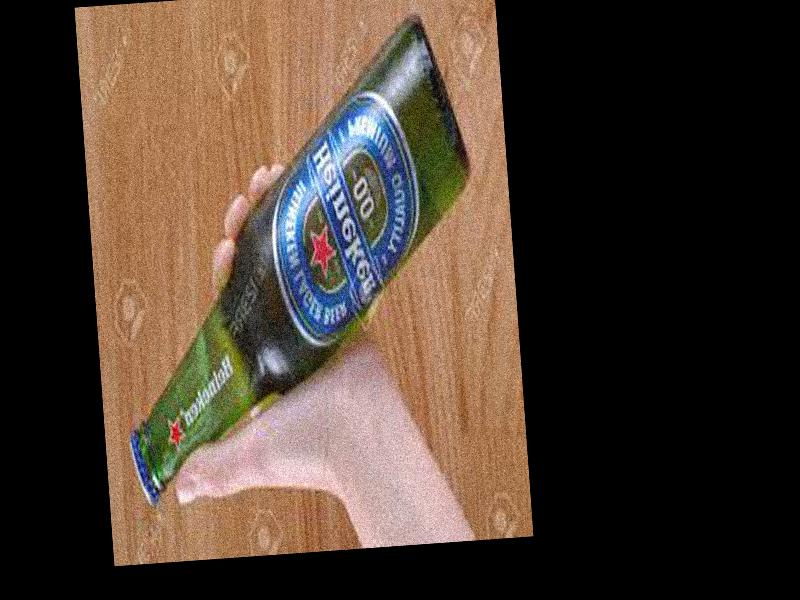Beer: (100, 14, 494, 503)
